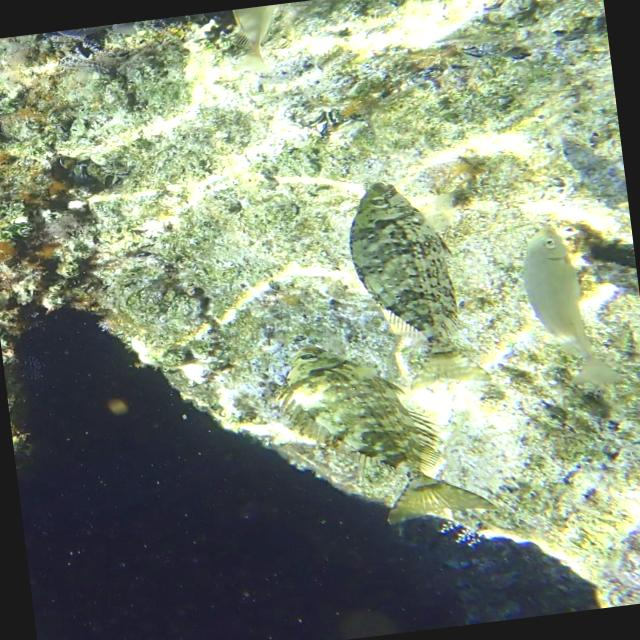Sokar Baligi: (330, 147, 502, 399), (504, 210, 638, 402)
